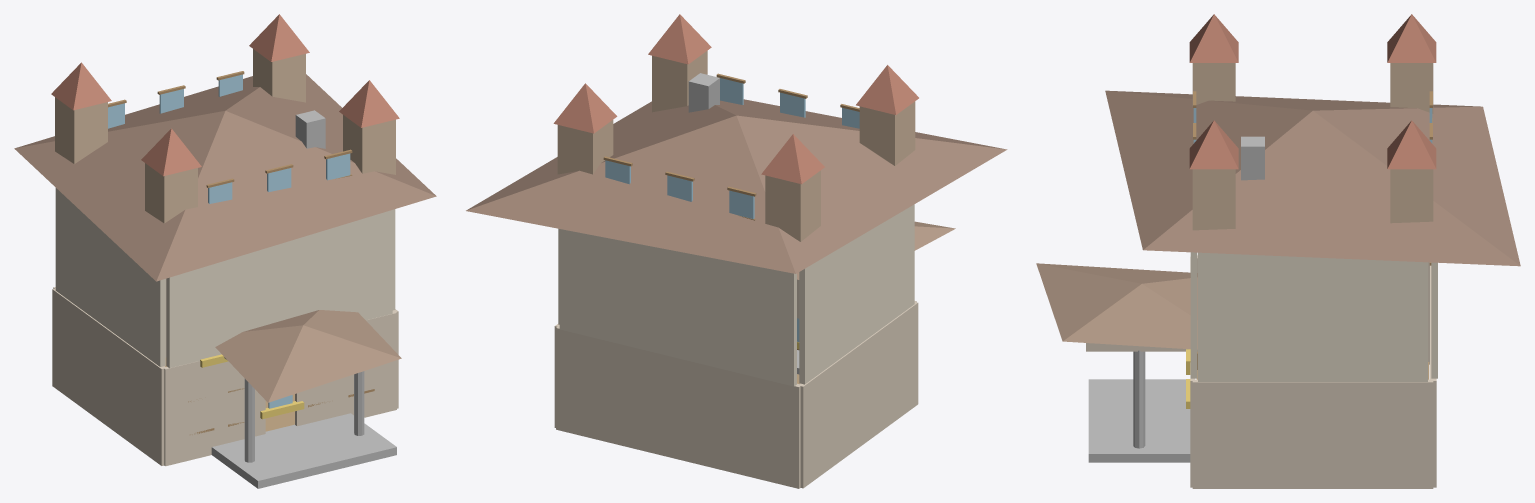
The model's file is house_palace.fbx.
3 renders of one model, left to right at view 1: azimuth 30°, elevation 25°; view 2: azimuth 150°, elevation 25°; view 3: azimuth 270°, elevation 25°, orthographic. The views are drawn at different scales.
Visible parts, largest first — view 1: Roof, FrontU0, Left, PorchRoof, Front_L, Porch, LeftU0, FrontU1, Front_R, LeftU1, Tower.002, Tower.001 (+13 smaller); view 2: Roof, Back, BackU0, Left, BackU1, LeftU0, LeftU1, Tower.002, Tower, Tower.003, Tower.001, TowerRoof.003 (+6 smaller); view 3: Roof, Right, RightU0, RightU1, PorchRoof, Porch, Tower.001, Tower.003, Tower.002, TowerRoof.003, TowerRoof.001, TowerRoof (+7 smaller).
Part boxes in pixels (<box>): Roof: <box>14,74,436,281</box>; FrontU0: <box>166,247,392,368</box>; Left: <box>52,288,165,465</box>; PorchRoof: <box>215,310,401,402</box>; Front_L: <box>163,361,265,466</box>; Porch: <box>211,413,396,488</box>; LeftU0: <box>55,225,165,366</box>; FrontU1: <box>166,210,392,301</box>; Front_R: <box>295,312,396,426</box>; LeftU1: <box>55,188,165,300</box>; Tower.002: <box>55,97,107,163</box>; Tower.001: <box>343,115,395,174</box>; Roof: <box>466,99,1007,273</box>; Back: <box>556,325,800,488</box>; BackU0: <box>559,260,796,386</box>; Left: <box>798,302,918,488</box>; BackU1: <box>559,229,796,316</box>; LeftU0: <box>799,235,914,384</box>; LeftU1: <box>799,204,914,314</box>; Tower.002: <box>765,170,820,241</box>; Tower: <box>859,101,915,165</box>; Tower.003: <box>557,120,613,174</box>; Tower.001: <box>652,50,707,112</box>; TowerRoof.003: <box>553,83,617,133</box>; Roof: <box>1105,90,1520,266</box>; Right: <box>1192,379,1433,488</box>; RightU0: <box>1198,309,1427,381</box>; RightU1: <box>1198,252,1427,309</box>; PorchRoof: <box>1036,263,1197,349</box>; Porch: <box>1088,379,1190,462</box>; Tower.001: <box>1192,169,1235,230</box>; Tower.003: <box>1390,169,1433,223</box>; Tower.002: <box>1390,63,1433,113</box>; TowerRoof.003: <box>1387,120,1436,169</box>; TowerRoof.001: <box>1189,120,1238,169</box>; TowerRoof: <box>1189,14,1238,62</box>.
Bounding box in the file's own units: 15.56 × 14.8 × 18.14.
